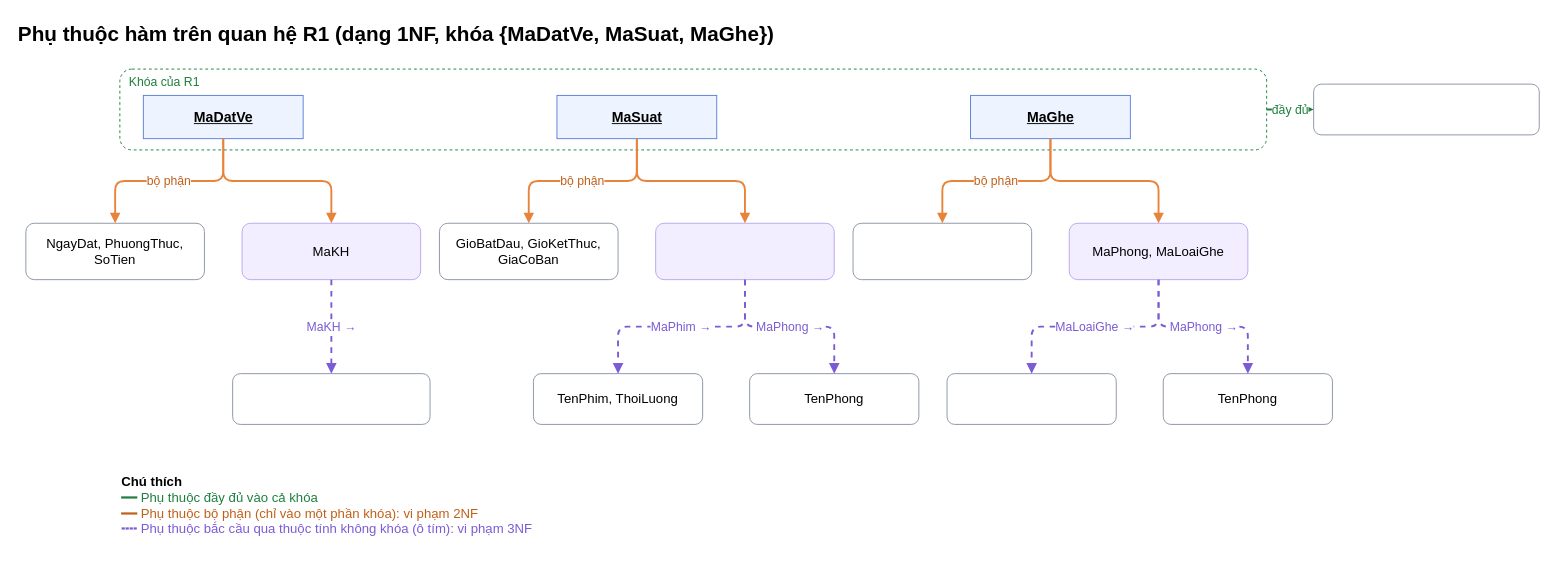
Some shapes in this 1556 by 568 pixel diagram are drawn without their labels. The centre of each missing label's shape, as x and y in pixels:
GiaVe, TrangThaiVe: the point at 1426,109
Hang, SoGhe: the point at 942,251
HoTen, SoDienThoai, Email: the point at 331,398
MaPhim, MaPhong: the point at 744,251
TenLoai, HeSoGia: the point at 1031,398
